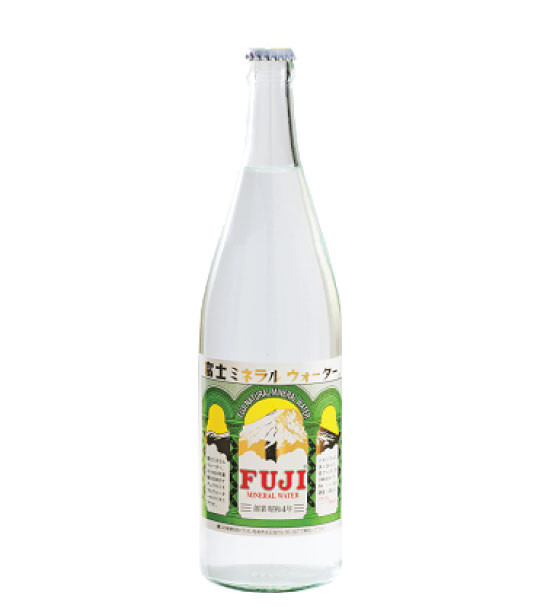glass_bottle: (195, 44, 359, 596)
